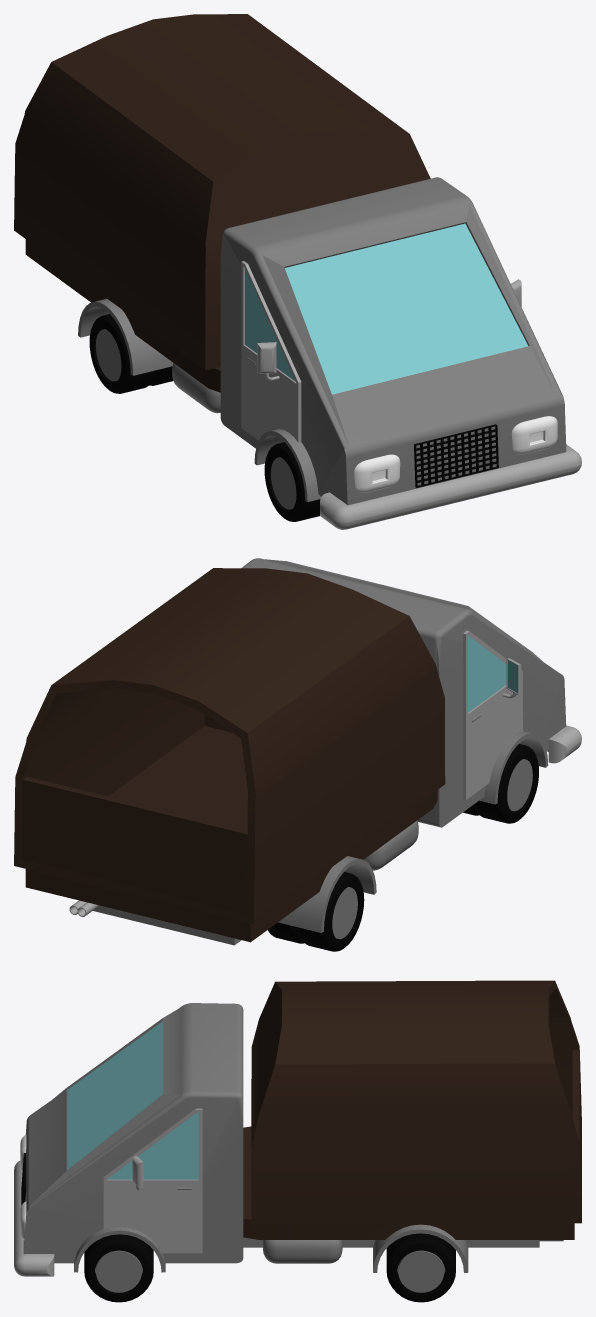
File: BigCar1.fbx
3 views of the same model, one above another, from view 1: azimuth 30°, elevation 25°; view 2: azimuth 150°, elevation 25°; view 3: azimuth 270°, elevation 25° (orthographic). The views are drawn at different scales.
Parts seen in each view (by area): view 1: Cube, Cube.001, Cube.005, Cube.007, Cube.004, Cylinder.003, Cylinder.001, Cylinder.005, Cylinder.004, Cube.002, Cube.006; view 2: Cube, Cube.001, Cube.005, Cylinder.001, Cylinder.003, Cylinder.005, Cylinder.004, Cube.003, Cube.002, Cube.007, Cube.006; view 3: Cube, Cube.001, Cube.005, Cylinder.003, Cylinder.001, Cube.002, Cube.007, Cylinder.005, Cube.003, Cylinder.004.
Part boxes in pixels (<box>): Cube: <box>14,14,430,392</box>; Cube.001: <box>220,177,566,505</box>; Cube.005: <box>241,261,301,442</box>; Cube.007: <box>320,444,581,529</box>; Cube.004: <box>354,416,557,492</box>; Cylinder.003: <box>89,314,156,393</box>; Cylinder.001: <box>264,442,320,521</box>; Cylinder.005: <box>78,299,173,375</box>; Cylinder.004: <box>254,429,321,501</box>; Cube.002: <box>172,363,220,413</box>; Cube.006: <box>257,279,521,373</box>; Cube: <box>14,568,445,942</box>; Cube.001: <box>241,558,566,827</box>; Cube.005: <box>463,630,522,800</box>; Cylinder.001: <box>473,744,538,823</box>; Cylinder.003: <box>297,872,364,951</box>; Cylinder.005: <box>278,856,376,932</box>; Cylinder.004: <box>479,731,548,804</box>; Cube.003: <box>93,905,241,945</box>; Cube.002: <box>364,820,418,870</box>; Cube.007: <box>546,725,581,763</box>; Cube.006: <box>506,658,521,694</box>; Cube: <box>243,980,581,1239</box>; Cube.001: <box>21,1003,243,1263</box>; Cube.005: <box>103,1108,202,1253</box>; Cylinder.003: <box>386,1233,455,1302</box>; Cylinder.001: <box>84,1234,153,1302</box>; Cube.002: <box>263,1240,342,1263</box>; Cube.007: <box>14,1161,54,1276</box>; Cylinder.005: <box>373,1224,468,1272</box>; Cube.003: <box>243,1237,539,1247</box>; Cylinder.004: <box>74,1227,165,1272</box>.
Bounding box in the file's own units: 195 × 206 × 423.
